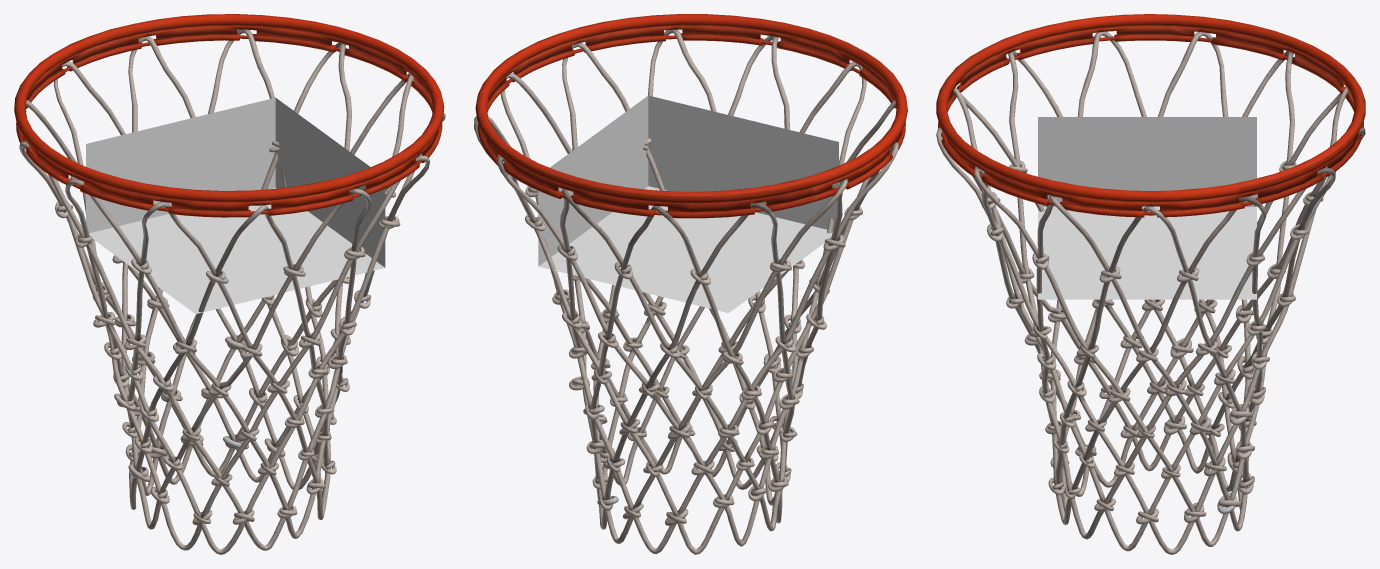
File: net.glb
3 views of the same model, side by side, from view 1: azimuth 30°, elevation 25°; view 2: azimuth 150°, elevation 25°; view 3: azimuth 270°, elevation 25° (orthographic).
Parts seen in each view (by area): view 1: net, collide; view 2: net, collide; view 3: net, collide.
Boxes of the visible parts, x1=… form: net: x1=14, y1=14, x2=445, y2=554; collide: x1=86, y1=97, x2=385, y2=313; net: x1=474, y1=14, x2=907, y2=554; collide: x1=538, y1=95, x2=838, y2=312; net: x1=936, y1=14, x2=1365, y2=554; collide: x1=1038, y1=117, x2=1256, y2=299.
Size of the model in its own units: 0.4531 by 0.4827 by 0.4516.
1 material, 1 textured.
